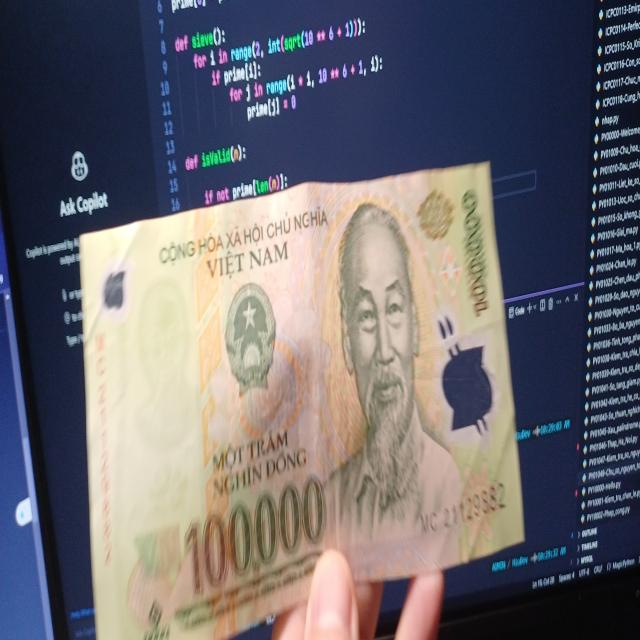100 000 VND: (78, 160, 526, 634)
